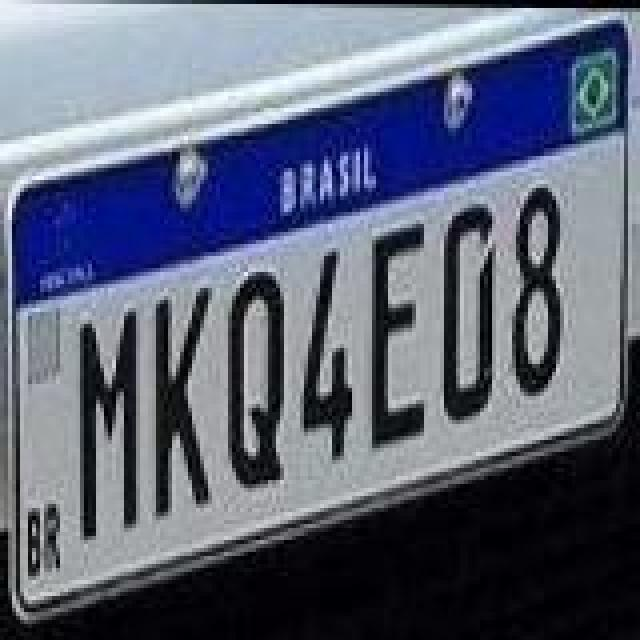4: (300, 248, 356, 464)
8: (508, 178, 564, 394)
D: (440, 202, 496, 418)
E: (372, 216, 428, 448)
K: (154, 284, 214, 520)
M: (80, 308, 144, 544)
Q: (228, 270, 284, 486)
